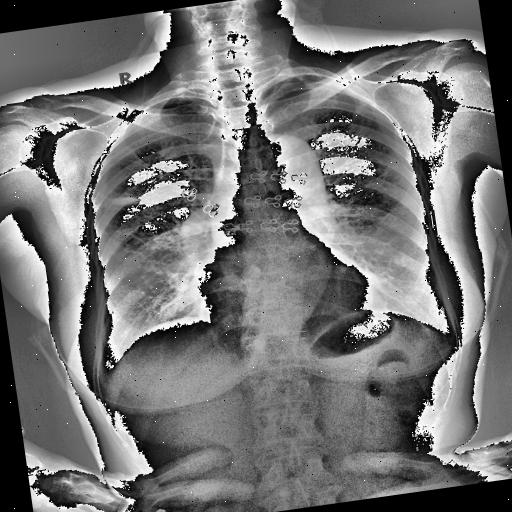0- Aortic enlargement: (260, 130, 330, 212), (246, 126, 324, 194), (258, 128, 324, 202)
11- Pleural thickening: (262, 71, 332, 98), (160, 92, 213, 114)
13- Pulmonary fibrosis: (130, 246, 176, 286), (95, 188, 139, 210), (104, 190, 146, 212), (348, 246, 372, 272)
8- Nodule-Mass: (181, 224, 193, 233)
9- Other lesion: (110, 188, 142, 208)
